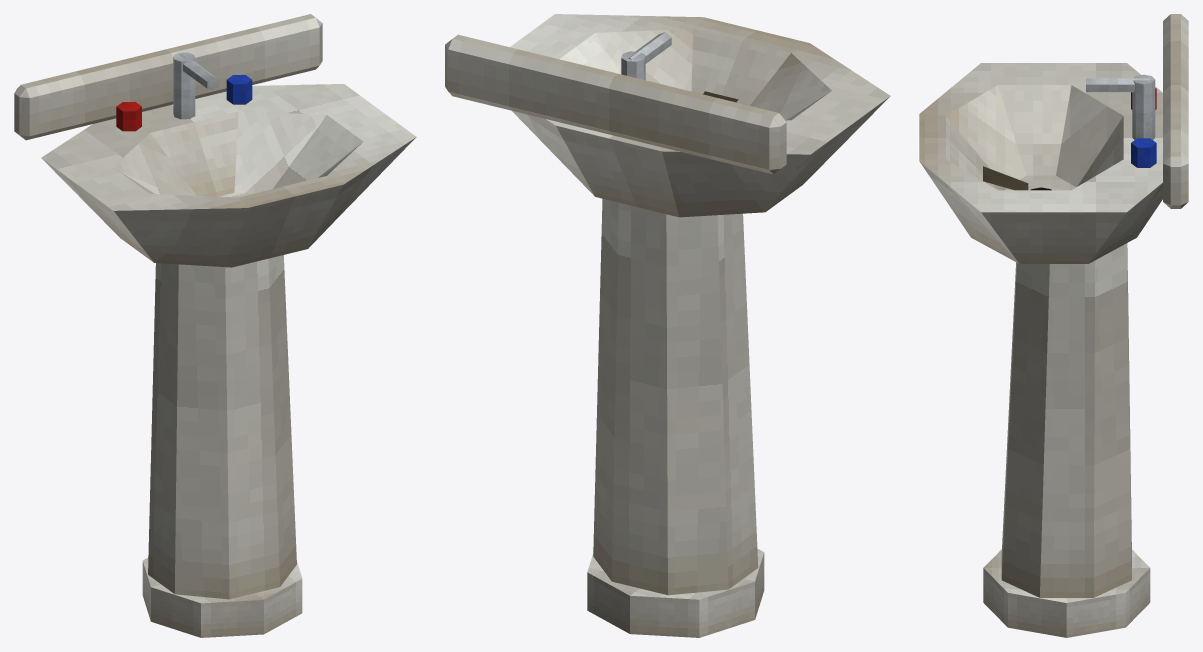
File: BathSink.glb
3 views of the same model, side by side, from view 1: azimuth 30°, elevation 25°; view 2: azimuth 150°, elevation 25°; view 3: azimuth 270°, elevation 25° (orthographic). The views are drawn at different scales.
Parts seen in each view (by area): view 1: BathSink; view 2: BathSink; view 3: BathSink.
Part boxes in pixels (bbox=[...]): BathSink: bbox=[14, 14, 416, 637]; BathSink: bbox=[445, 14, 890, 637]; BathSink: bbox=[919, 14, 1188, 637].
Bounding box in the file's own units: 0.55 × 0.902 × 0.42.
1 material, 1 textured.
